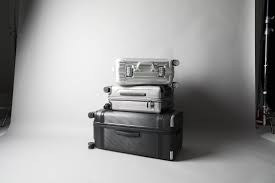suitcase: (87, 111, 185, 162), (101, 83, 179, 113), (112, 56, 182, 87)
